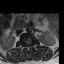CCS_normal: (27, 44, 29, 52)
LFS_severe_stenosis: (31, 43, 33, 49)
LLS_stenosis: (29, 44, 31, 50)
RFS_stenosis: (23, 44, 25, 50)
RLS_normal: (25, 44, 27, 50)
